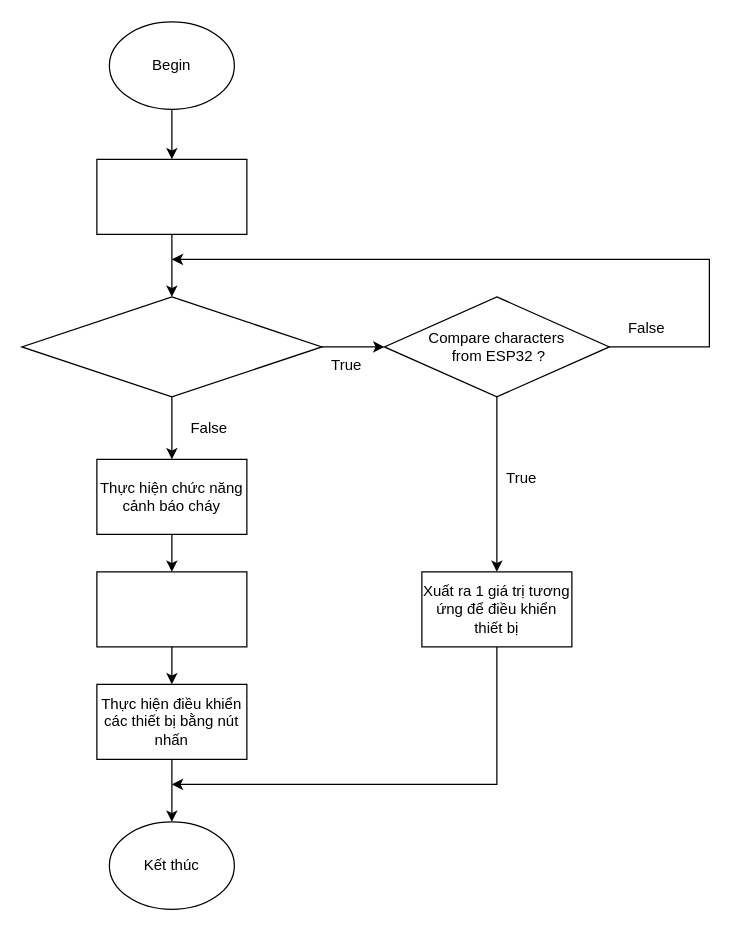
This 741x931 diagram has some shape labels left out. Each missing label, with the box of its shape:
Check if receiving data from ESP32?: (21, 296, 322, 397)
Configure the system: (96, 158, 247, 234)
Thực hiện chức năng cảnh báo khói: (96, 571, 247, 647)
